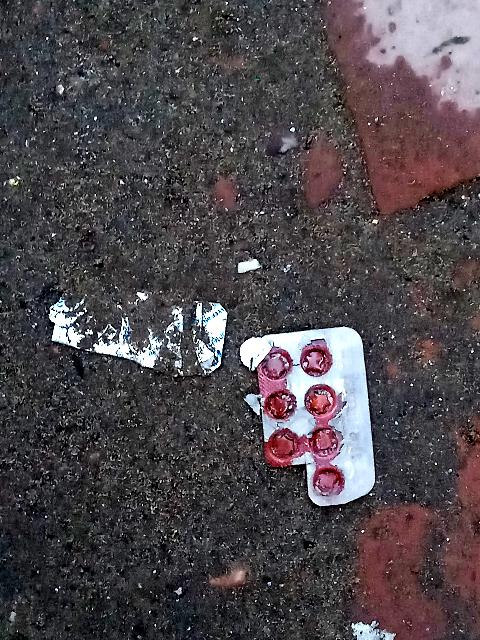medicine: (239, 308, 389, 510)
